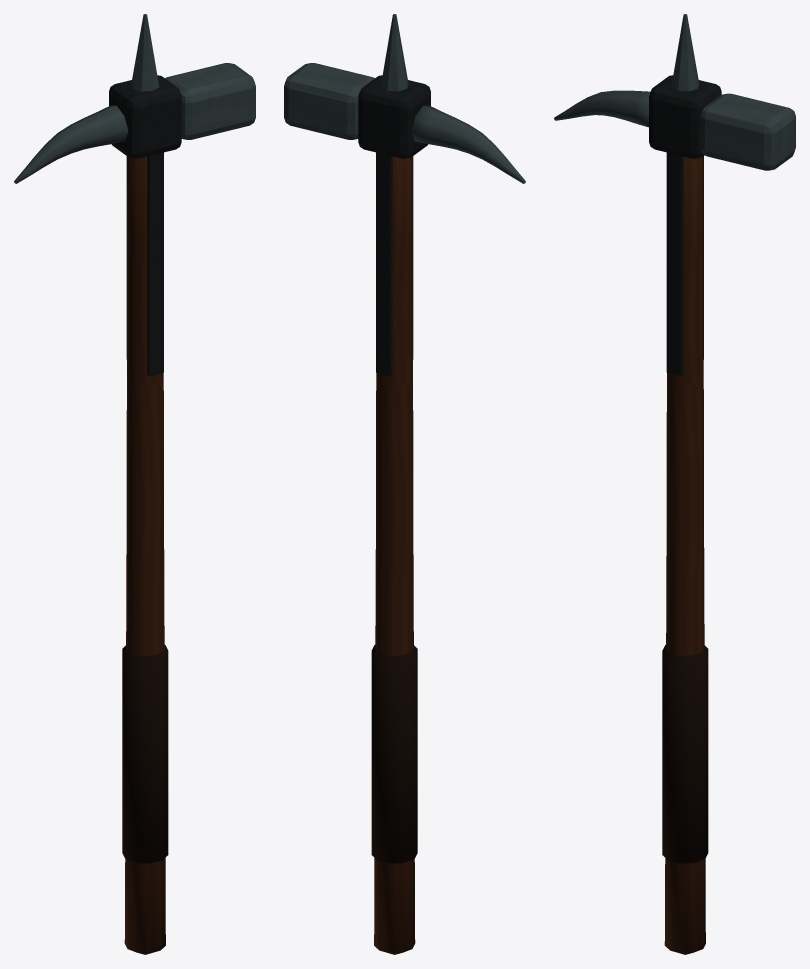
The model's file is war_hammer.glb.
The picture shows the model from 3 angles, left to right: view 1: azimuth 30°, elevation 25°; view 2: azimuth 150°, elevation 25°; view 3: azimuth 330°, elevation 25°; orthographic projection.
Parts seen in each view (by area): view 1: AshHaft, LeatherGrip, StrikingFace, HeadCore, LeftLanget, BackSpike, TopSpike; view 2: AshHaft, LeatherGrip, StrikingFace, HeadCore, RightLanget, BackSpike, TopSpike; view 3: AshHaft, LeatherGrip, StrikingFace, HeadCore, LeftLanget, BackSpike, TopSpike.
Part boxes in pixels (x1,y1,x2,y2): AshHaft: (124,156,165,954); LeatherGrip: (122,645,168,863); StrikingFace: (165,63,255,139); HeadCore: (109,75,181,158); LeftLanget: (147,152,163,375); BackSpike: (14,105,128,183); TopSpike: (131,14,159,91); AshHaft: (374,156,415,954); LeatherGrip: (371,645,417,863); StrikingFace: (284,63,374,139); HeadCore: (358,75,430,158); RightLanget: (376,152,392,375); BackSpike: (411,105,525,183); TopSpike: (380,14,408,91); AshHaft: (664,156,705,954); LeatherGrip: (662,645,708,863); StrikingFace: (700,93,795,170); HeadCore: (649,75,721,158); LeftLanget: (666,152,683,375); BackSpike: (554,90,650,127); TopSpike: (671,14,699,91).
Bounding box in the file's own units: 0.2137 × 0.8291 × 0.044.
4 materials, 4 textured.
